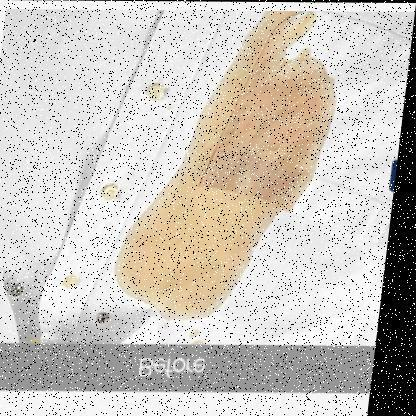coffee: (131, 199, 248, 304), (228, 68, 314, 169)
